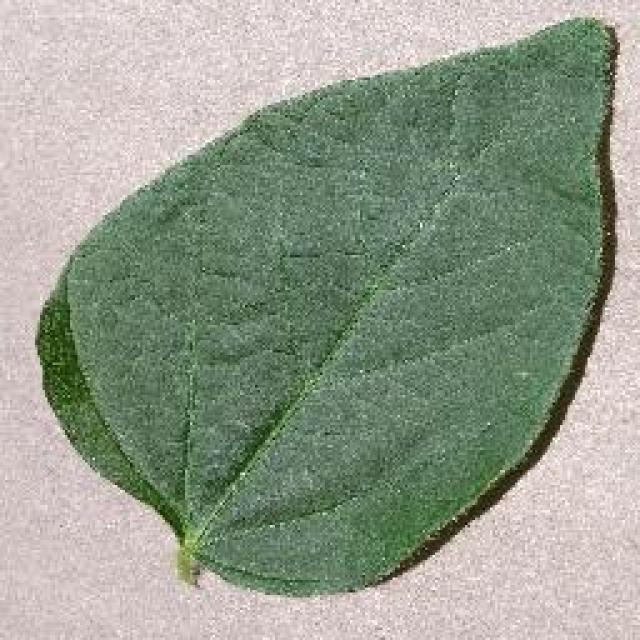Soy_healthy: (85, 64, 584, 552)
